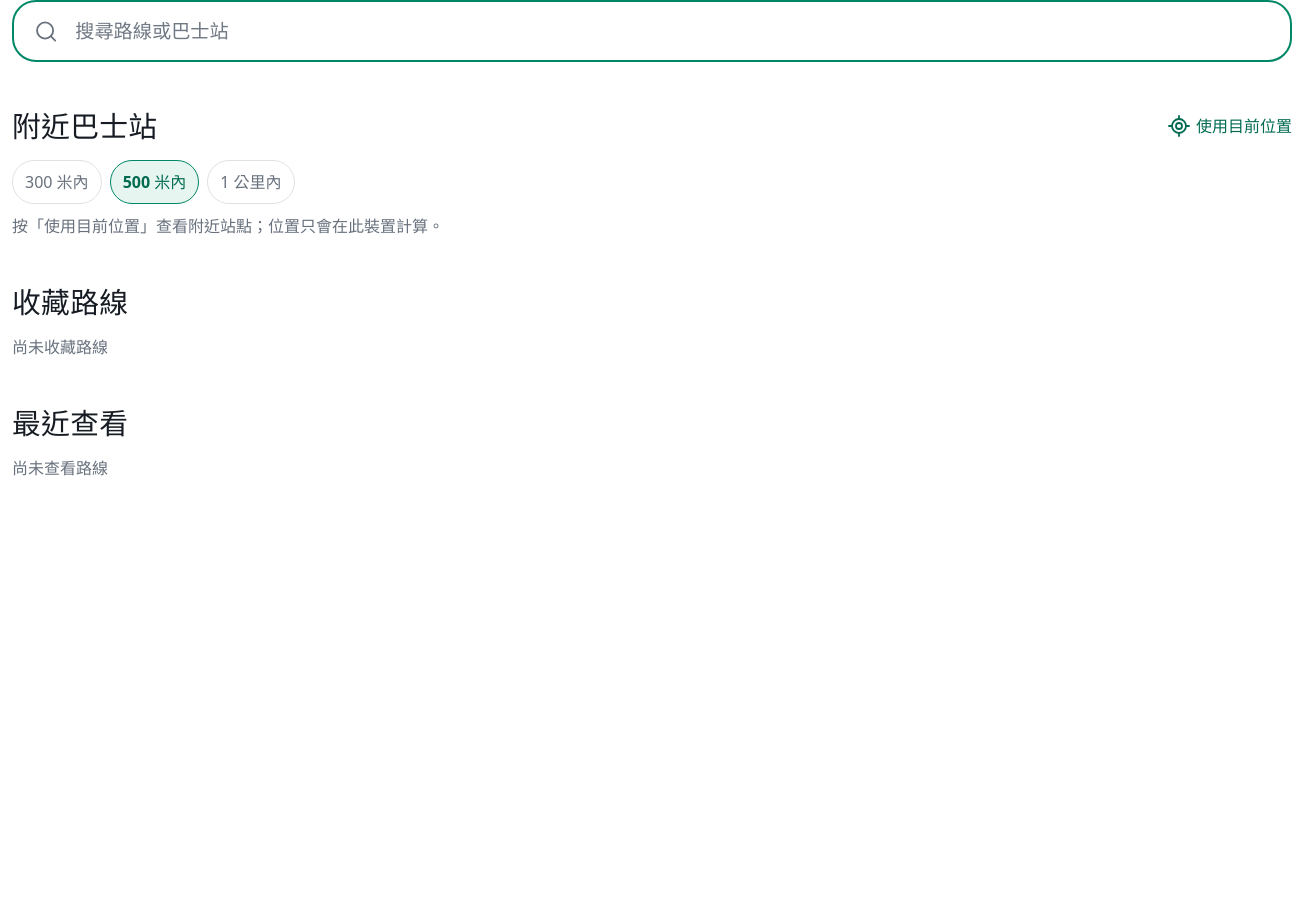
HomePage › lets search results choose every route associated with one station
Later steps or results of the test are not shown.
Type "甲站" into the search field labelled "搜尋路線或巴士站".
click(672, 31); type("甲站")  # box 73,16 -> 1270,46
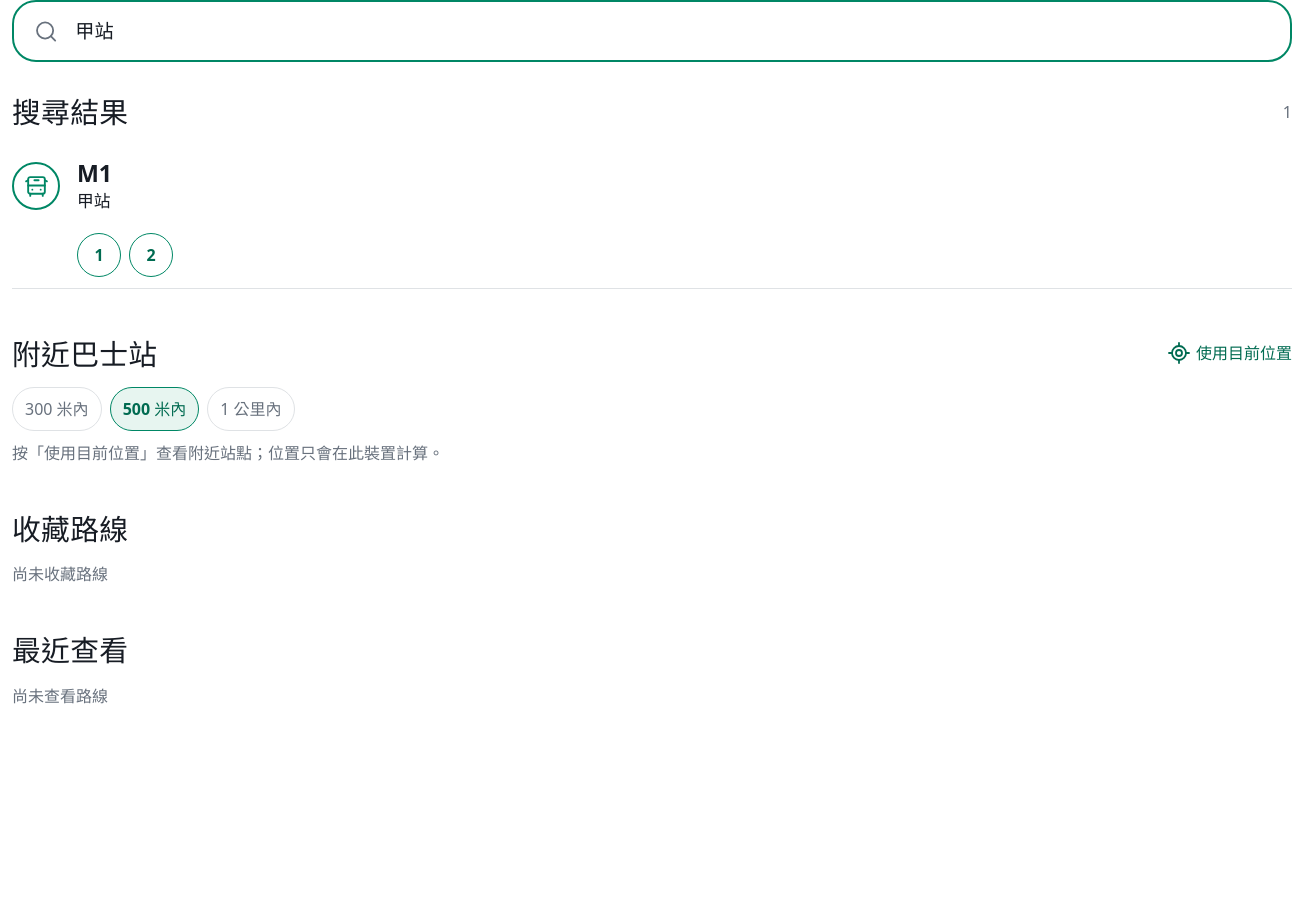
Check: the button named "開啟路線 1 測試線" is shown, box 77,233 -> 121,277
Check: the button named "開啟路線 2 另一條線" is shown, box 129,233 -> 173,277
